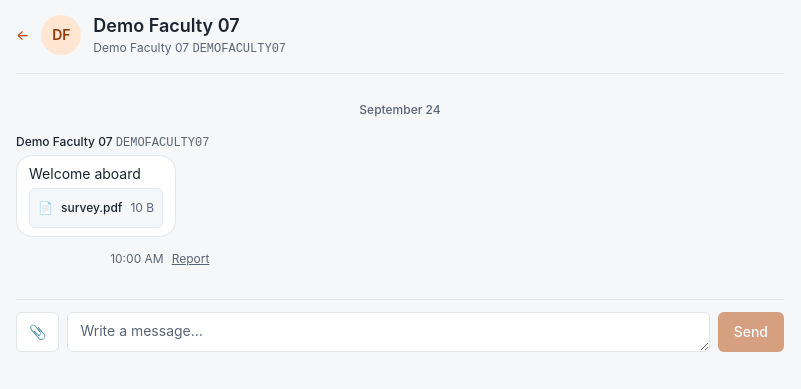
Test: sharing a file in a thread › says so when a download fails instead of doing nothing
Click the button "📄 survey.pdf 10 B".
click(96, 208)  # box [29,188,163,228]
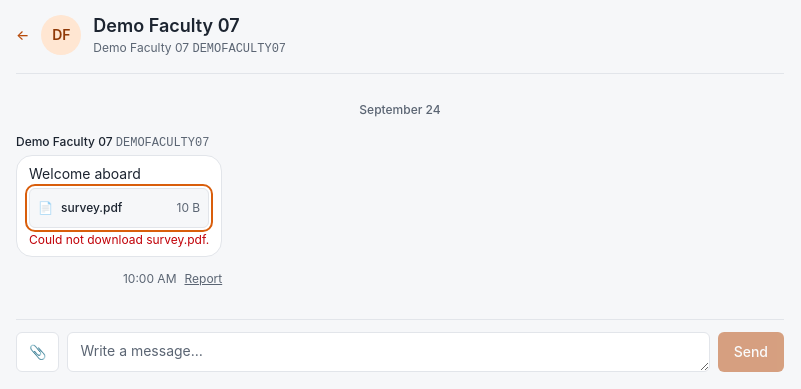
Expected: the message shows "Could not download", [29,232,146,247]
